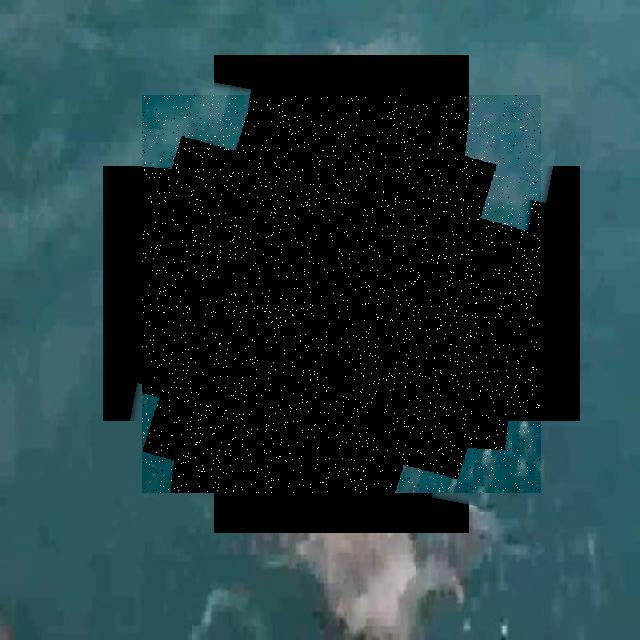Out of Water: (142, 95, 541, 493)
